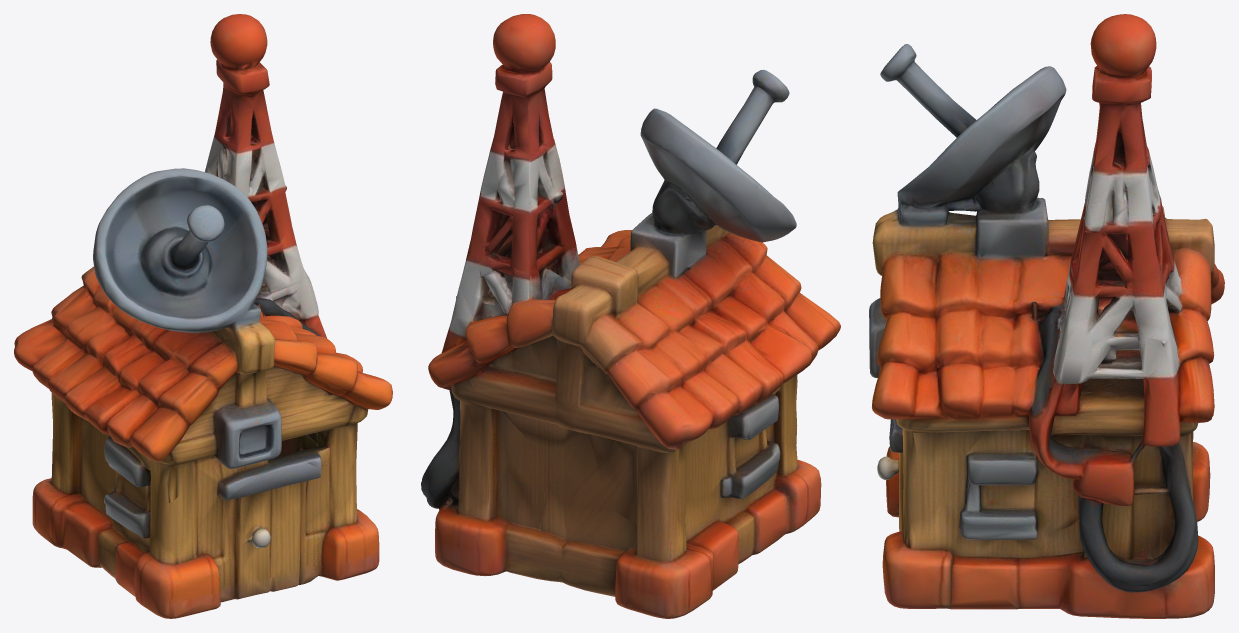
The model's file is media_tower.glb.
3 views of the same model, side by side, from view 1: azimuth 30°, elevation 25°; view 2: azimuth 150°, elevation 25°; view 3: azimuth 270°, elevation 25° (orthographic). The views are drawn at different scales.
Size of the model in its own units: 1.19 by 2 by 1.13.
Materials: 1 (1 with a texture image).
